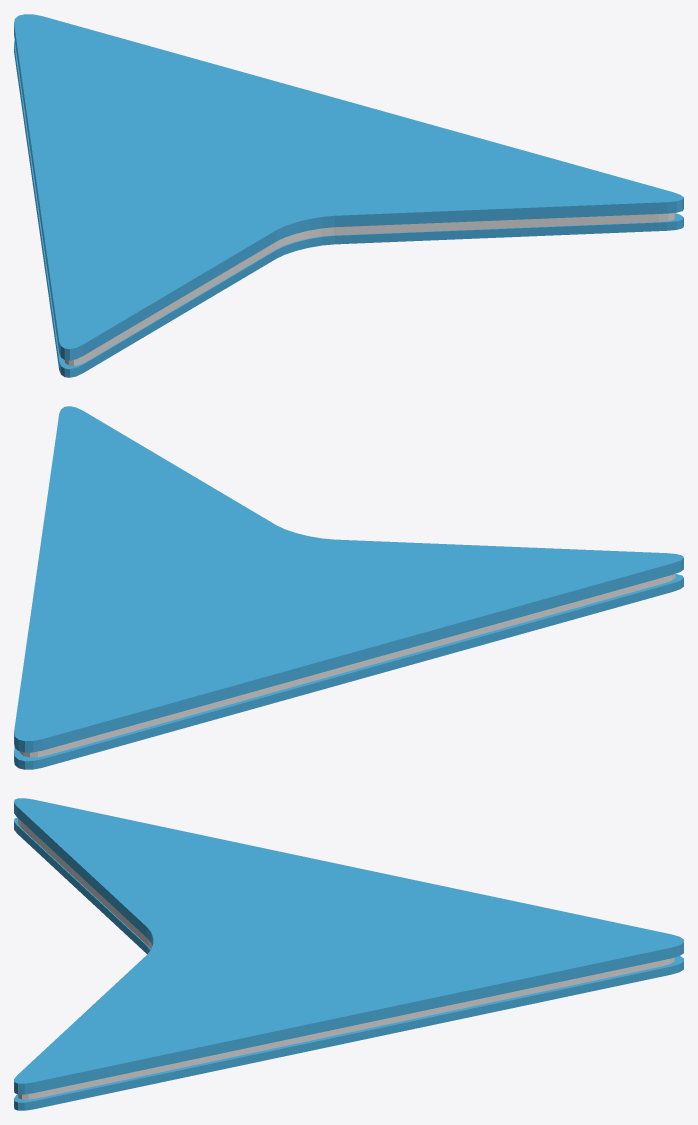
Rendered from Triangle.fbx.
3 renders of one model, top to bottom at view 1: azimuth 30°, elevation 25°; view 2: azimuth 150°, elevation 25°; view 3: azimuth 270°, elevation 25°, orthographic. The views are drawn at different scales.
Parts seen in each view (by area): view 1: Cube; view 2: Cube; view 3: Cube.
Boxes of the visible parts, x1,y1,x2,y2 form: Cube: (14,14,683,377); Cube: (14,406,683,769); Cube: (14,798,683,1110).
Size of the model in its own units: 193 by 8.52 by 191.
